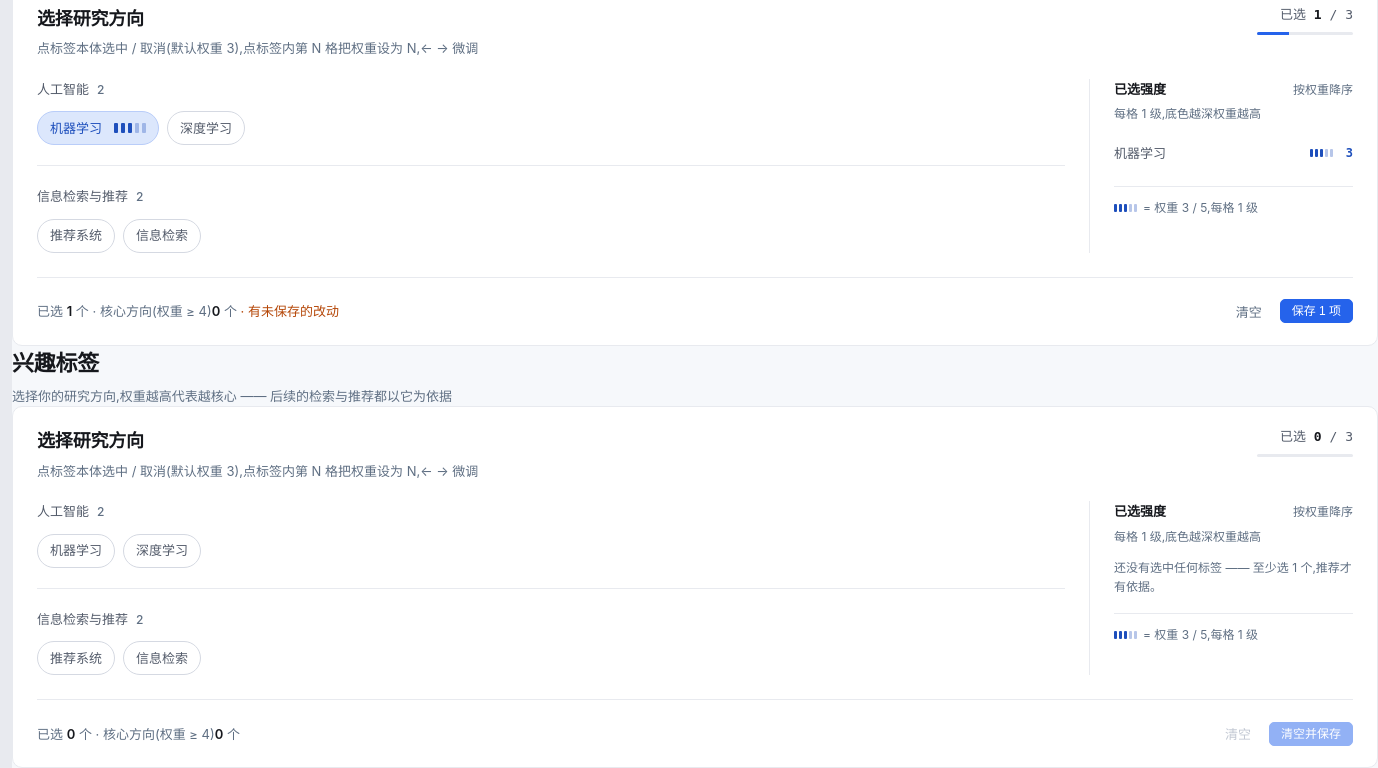
InterestView › 保存提交完整载荷,并用服务端返回的结果重绘
(page scrolled)
Click the 5th button with class "tag" at point(76, 551), box x1=37 y1=534 x2=115 y2=568
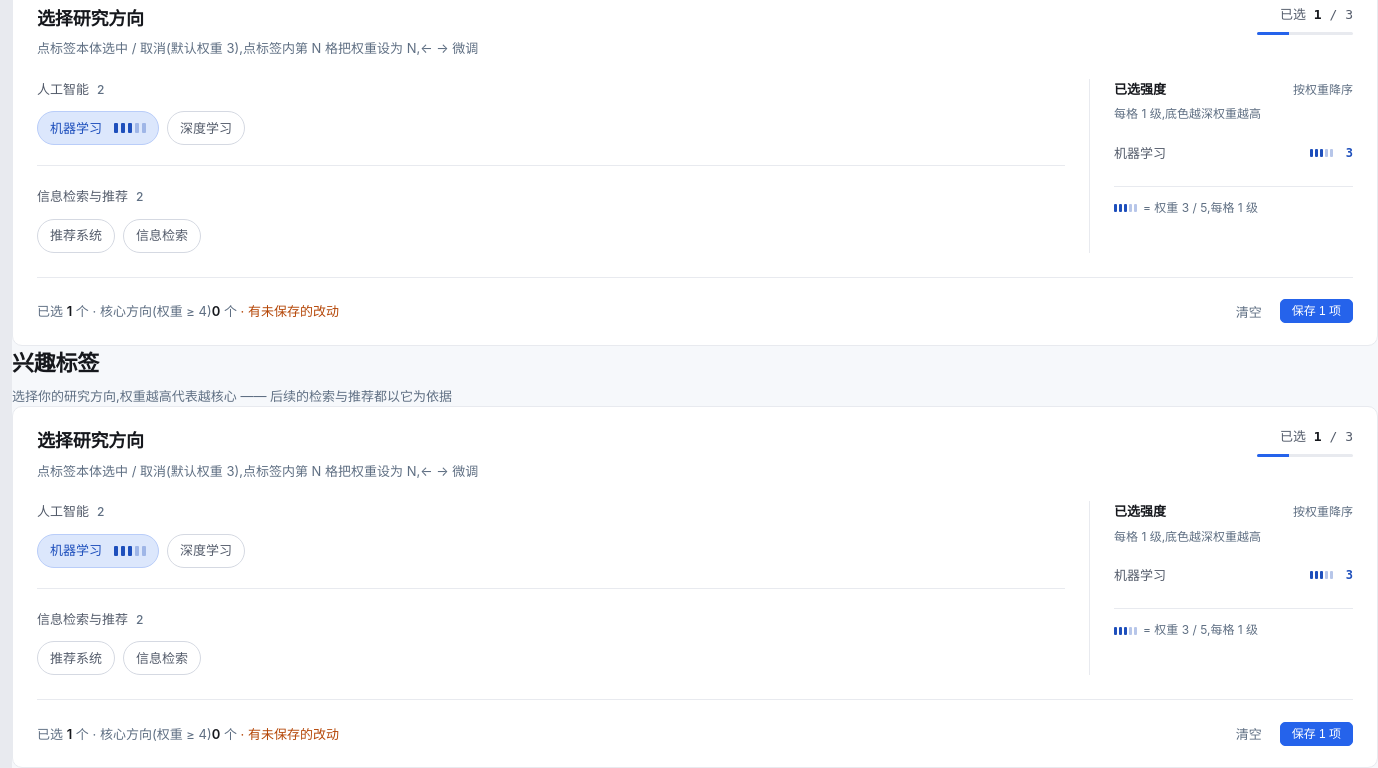
Click the 2nd button "保存 1 项" at point(1316, 734), box x1=1280 y1=722 x2=1353 y2=746
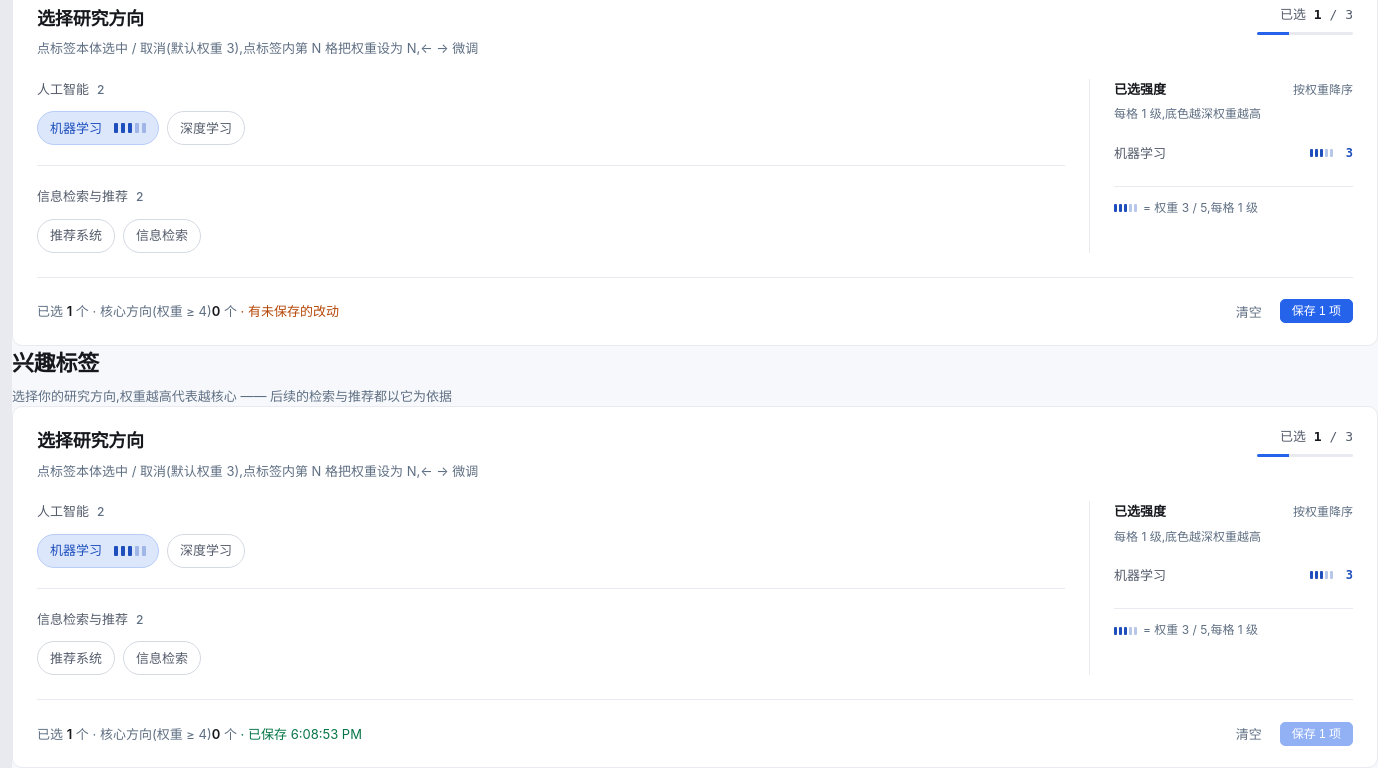
Check: the text "有未保存的改动" is not shown
Check: the text "已保存" is shown, box x1=241 y1=726 x2=362 y2=742
